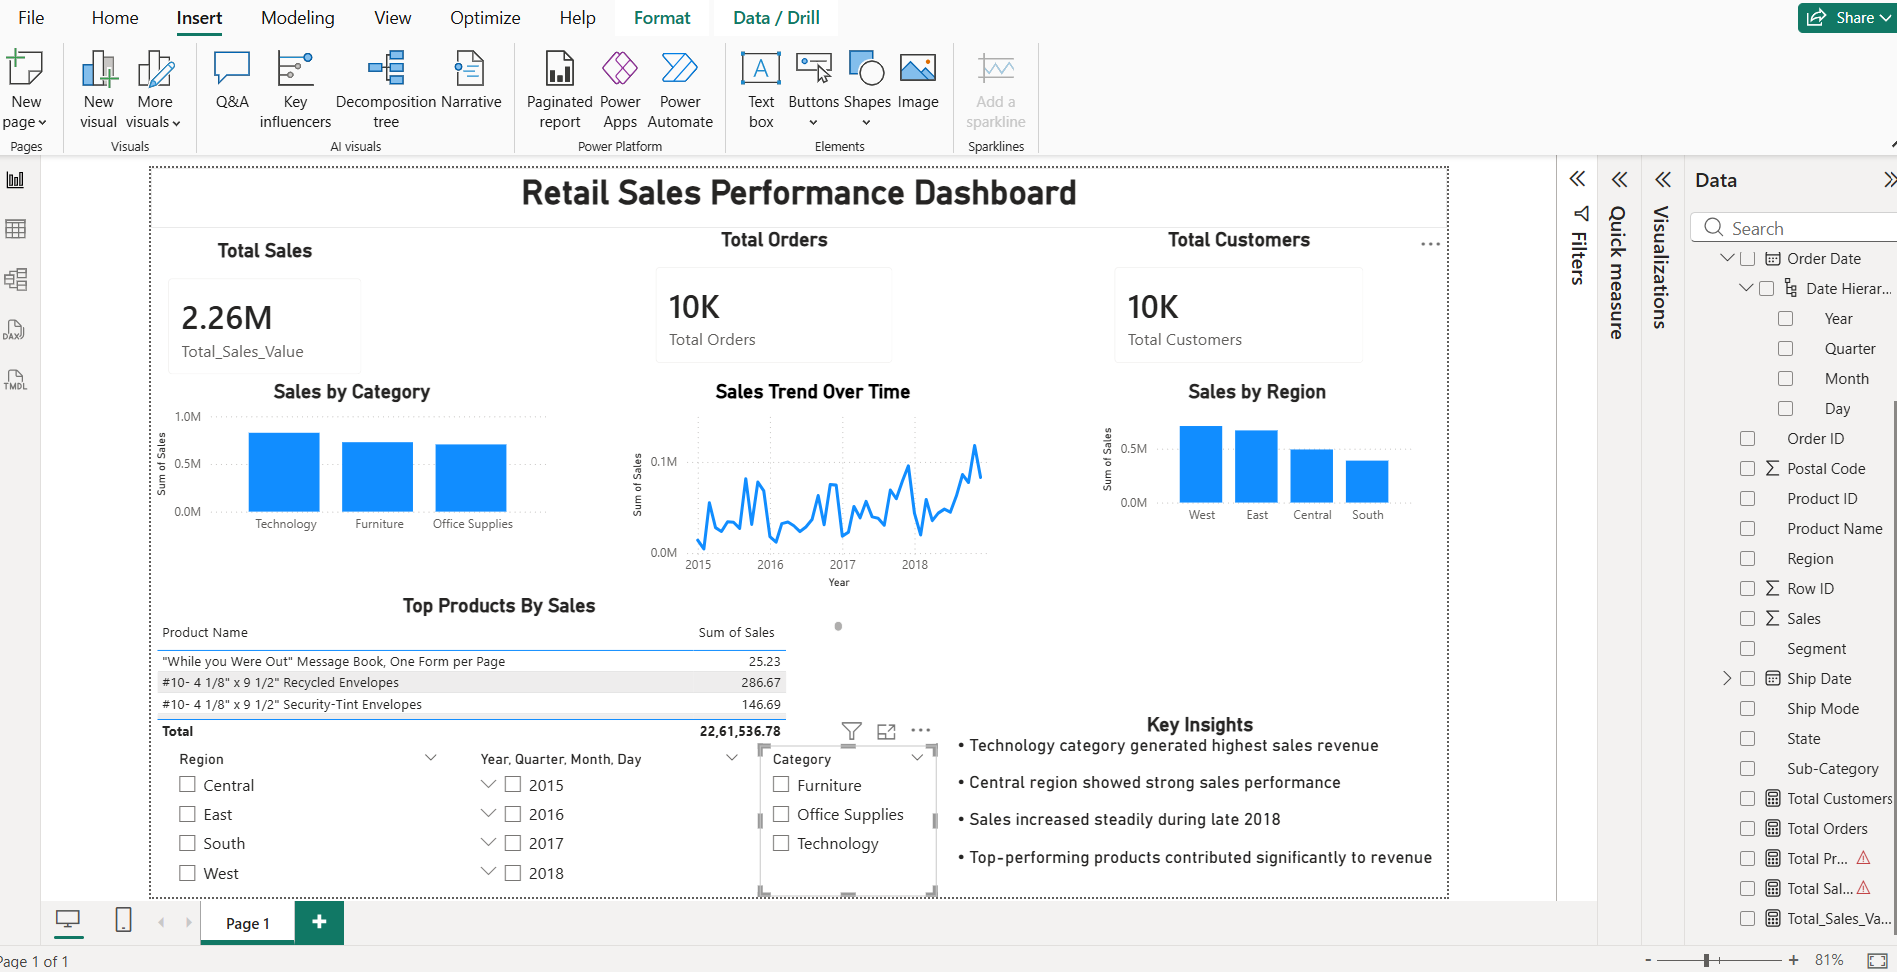

This screenshot's page, from the dashboard's own definition file:
{"tool":"powerbi","page":{"name":"Page 1","canvas":[1280,720],"ordinal":0},"visuals":[{"type":"cardVisual","title":"Total Sales","fields":{"Data":["train.Total_Sales_Value"]},"box":[0,70.1,225.4,150.7],"z":0},{"type":"lineChart","title":"Sales Trend Over Time","fields":{"Y":["Sum(train.Sales)"],"Category":["train.Order Date.Variation.Date Hierarchy.Year","train.Order Date.Variation.Date Hierarchy.Month"]},"box":[470.1,210.4,367.2,210.4],"z":1000},{"type":"cardVisual","title":"Total Customers","fields":{"Data":["train.Total Customers"]},"box":[934.3,59.7,280.6,150.7],"z":2000},{"type":"clusteredColumnChart","title":"Sales by Category","fields":{"Category":["train.Category"],"Y":["Sum(train.Sales)"]},"box":[0,210.4,397,159.7],"z":3000},{"type":"clusteredColumnChart","title":"Sales by Region","fields":{"Category":["train.Region"],"Y":["Sum(train.Sales)"]},"box":[934.3,210.4,316.4,150.7],"z":4000},{"type":"tableEx","title":"Top Products By Sales","fields":{"Values":["train.Product Name","Sum(train.Sales)"]},"box":[0,421,775.3,149.4],"z":5000},{"type":"slicer","fields":{"Values":["train.Region"]},"box":[32.1,570.4,280.2,149.4],"z":6000},{"type":"slicer","fields":{"Values":["train.Category"]},"box":[601.5,570.1,174.6,149.3],"z":7000},{"type":"slicer","fields":{"Values":["train.Order Date.Variation.Date Hierarchy.Year","train.Order Date.Variation.Date Hierarchy.Quarter","train.Order Date.Variation.Date Hierarchy.Month","train.Order Date.Variation.Date Hierarchy.Day"]},"box":[311.9,570.1,280.6,149.3],"z":8000},{"type":"cardVisual","title":"Total Orders","fields":{"Data":["train.Total Orders"]},"box":[482.1,59.7,268.7,150.7],"z":9000},{"type":"textbox","box":[0,0,1280.6,59.7],"z":10000},{"type":"textbox","box":[791,532.8,489.6,186.6],"z":11000}]}

Visuals, with their boxes on the page's 1280x720 design canvas (x1, y1, x2, y2). These are canvas units, not pixel positions in the 1897x972 screenshot, which may show the page scaled, cropped or inside an application window:
"Total Sales" cardVisual: (0, 70, 225, 221)
"Sales Trend Over Time" lineChart: (470, 210, 837, 421)
"Total Customers" cardVisual: (934, 60, 1215, 210)
"Sales by Category" clusteredColumnChart: (0, 210, 397, 370)
"Sales by Region" clusteredColumnChart: (934, 210, 1251, 361)
"Top Products By Sales" tableEx: (0, 421, 775, 570)
slicer - train.Region: (32, 570, 312, 720)
slicer - train.Category: (602, 570, 776, 719)
slicer - train.Order Date.Variation.Date Hierarchy.Year x train.Order Date.Variation.Date Hierarchy.Quarter: (312, 570, 592, 719)
"Total Orders" cardVisual: (482, 60, 751, 210)
textbox: (0, 0, 1281, 60)
textbox: (791, 533, 1281, 719)
